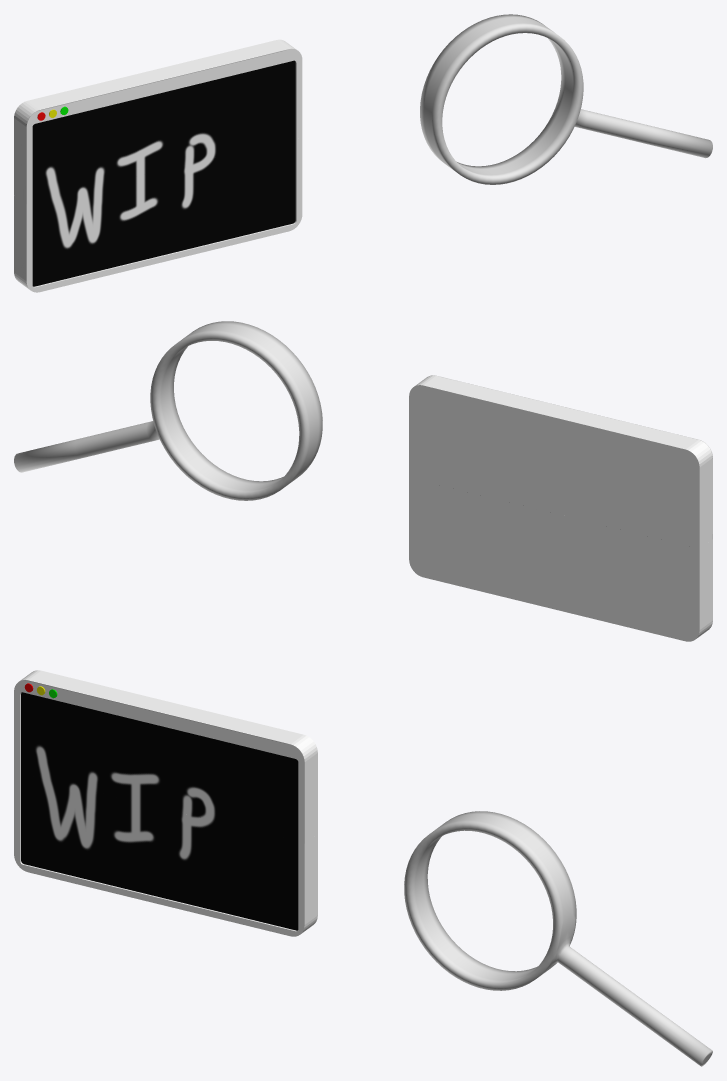
3 renders of one model, top to bottom at view 1: azimuth 30°, elevation 25°; view 2: azimuth 150°, elevation 25°; view 3: azimuth 330°, elevation 25°, orthographic. The views are drawn at different scales.
Visible parts, largest first — view 1: ScreenBottom, ScreenTop, MagnifyingGlass, Top, Bottom; view 2: Top, Bottom, MagnifyingGlass; view 3: ScreenBottom, ScreenTop, MagnifyingGlass, Top, Bottom.
Boxes of the visible parts, left/top/right/bottom form: ScreenBottom: left=32, top=138, right=295, bottom=286; ScreenTop: left=32, top=60, right=295, bottom=201; MagnifyingGlass: left=420, top=14, right=712, bottom=184; Top: left=14, top=39, right=302, bottom=204; Bottom: left=14, top=137, right=302, bottom=292; Top: left=409, top=375, right=712, bottom=548; Bottom: left=409, top=478, right=712, bottom=641; MagnifyingGlass: left=14, top=321, right=322, bottom=500; ScreenBottom: left=21, top=774, right=298, bottom=930; ScreenTop: left=21, top=692, right=298, bottom=841; MagnifyingGlass: left=404, top=811, right=712, bottom=1066; Top: left=14, top=670, right=317, bottom=843; Bottom: left=14, top=773, right=317, bottom=936.
Bounding box in the file's own units: 8.71 × 2.45 × 0.7206.
4 materials, 2 textured.
